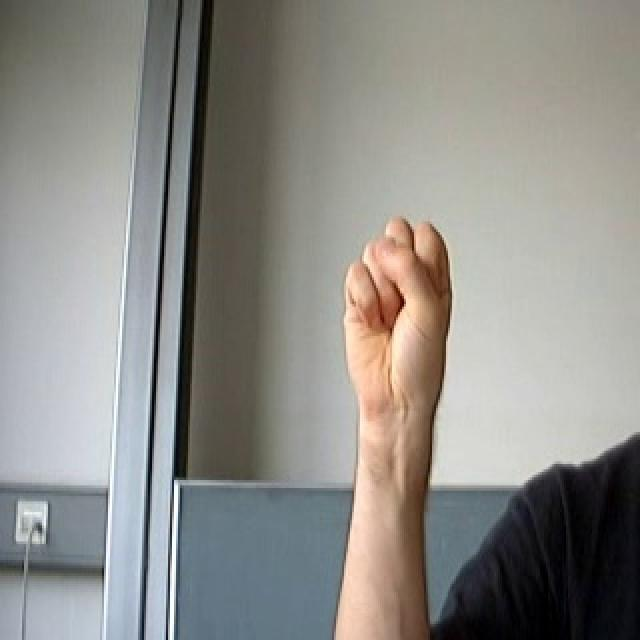S: (333, 204, 458, 445)
